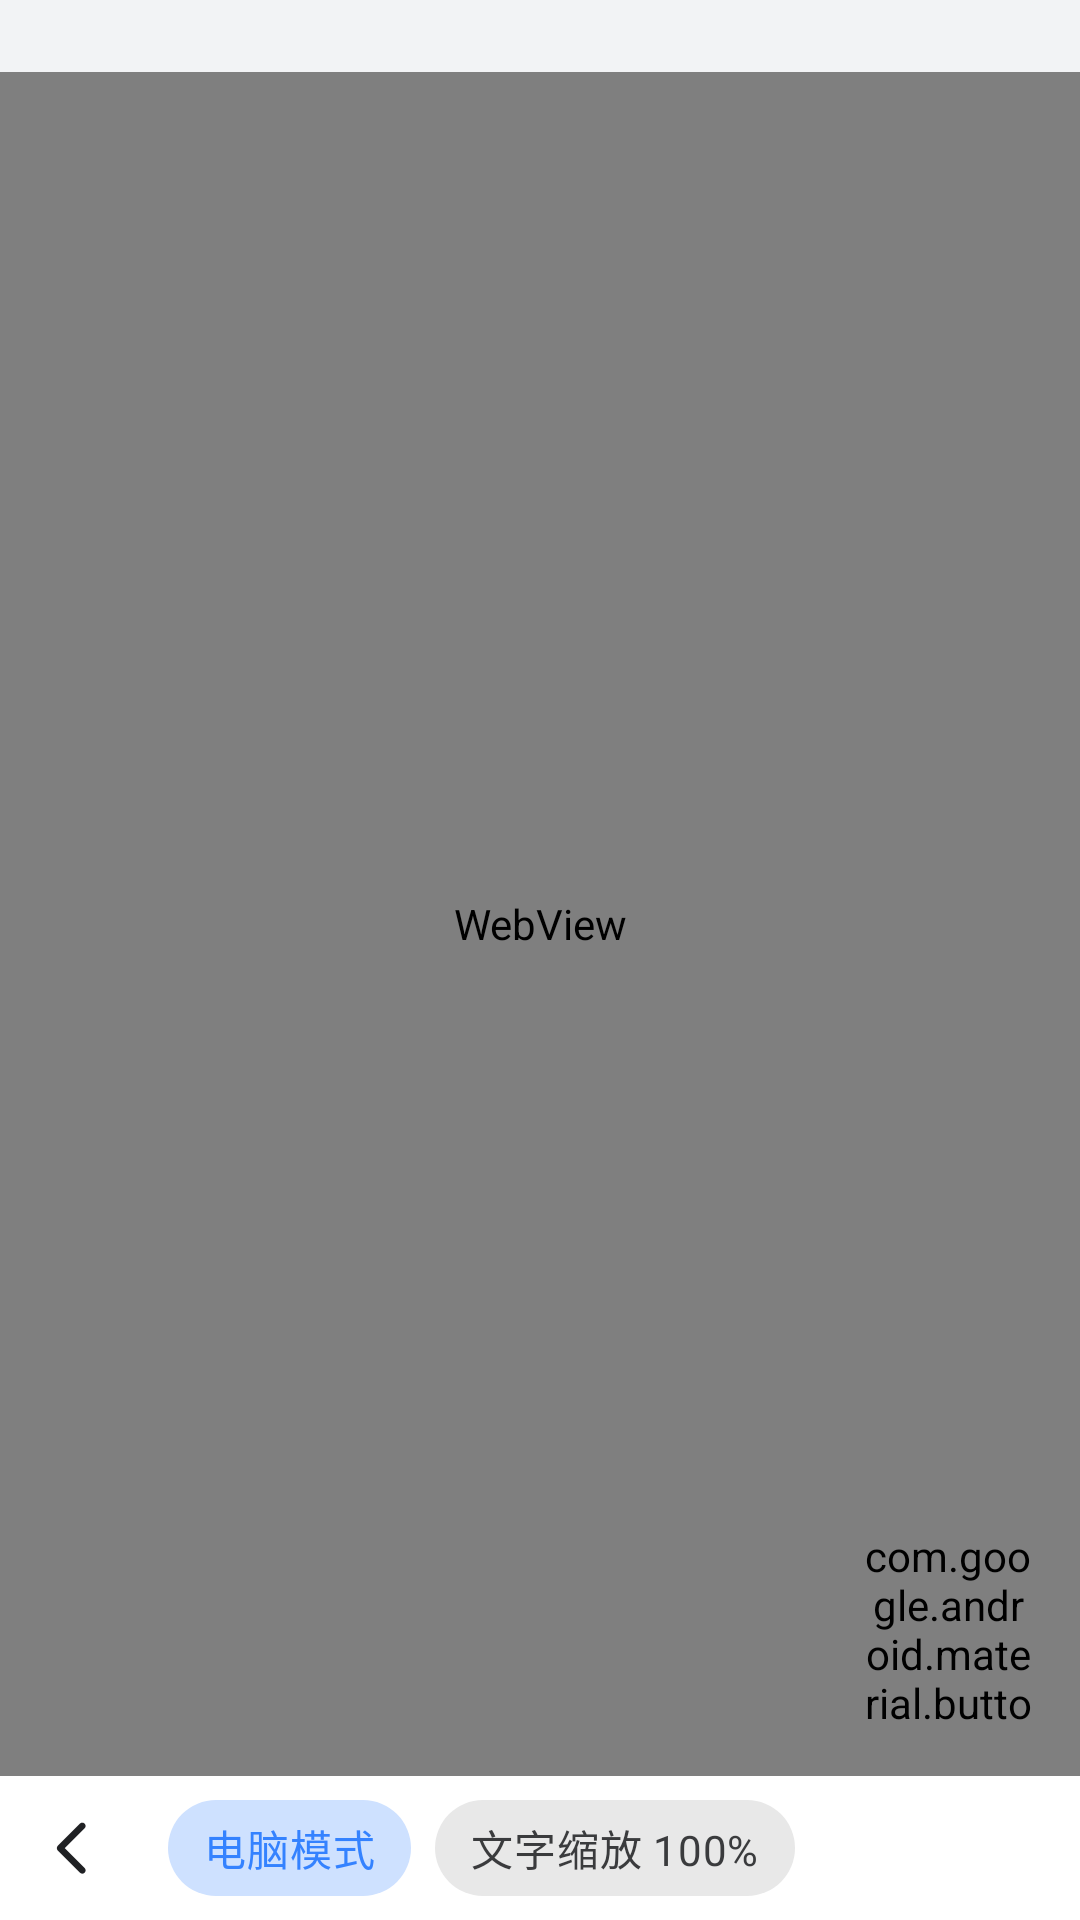

Point at icon controls on the screen. Image size 1080×1920, points as point (x, y).
back: point (71, 1848)
